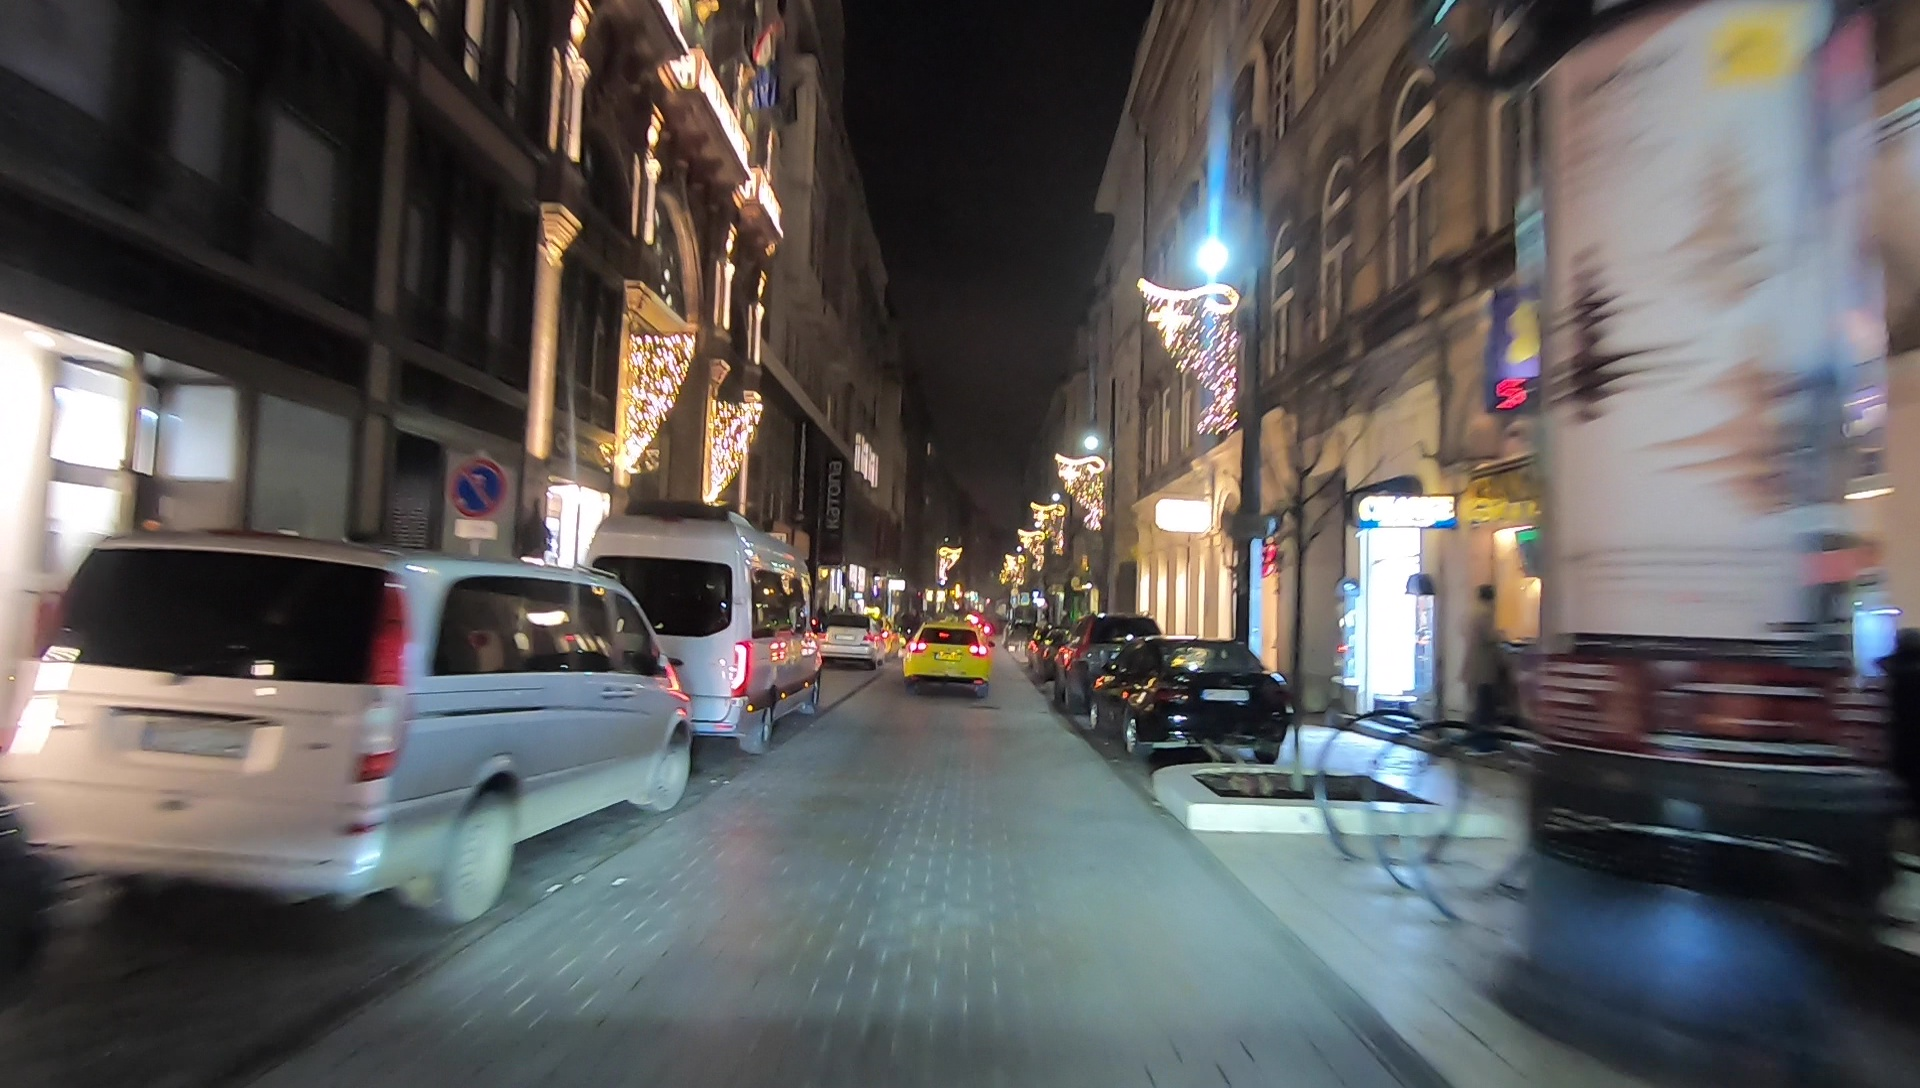person: (1460, 580, 1514, 760)
